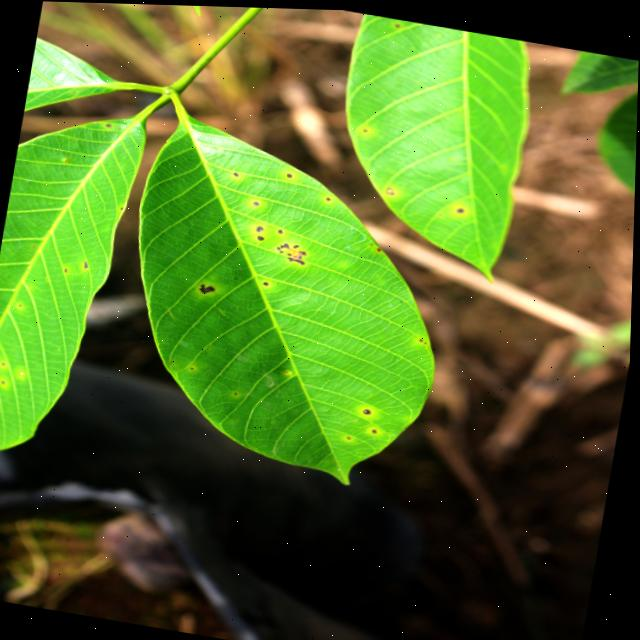Colletotrichum: (365, 407, 373, 412), (258, 234, 264, 239), (253, 200, 259, 205), (287, 172, 293, 177), (264, 280, 270, 285)
